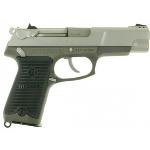Pistol: (3, 23, 149, 128)
